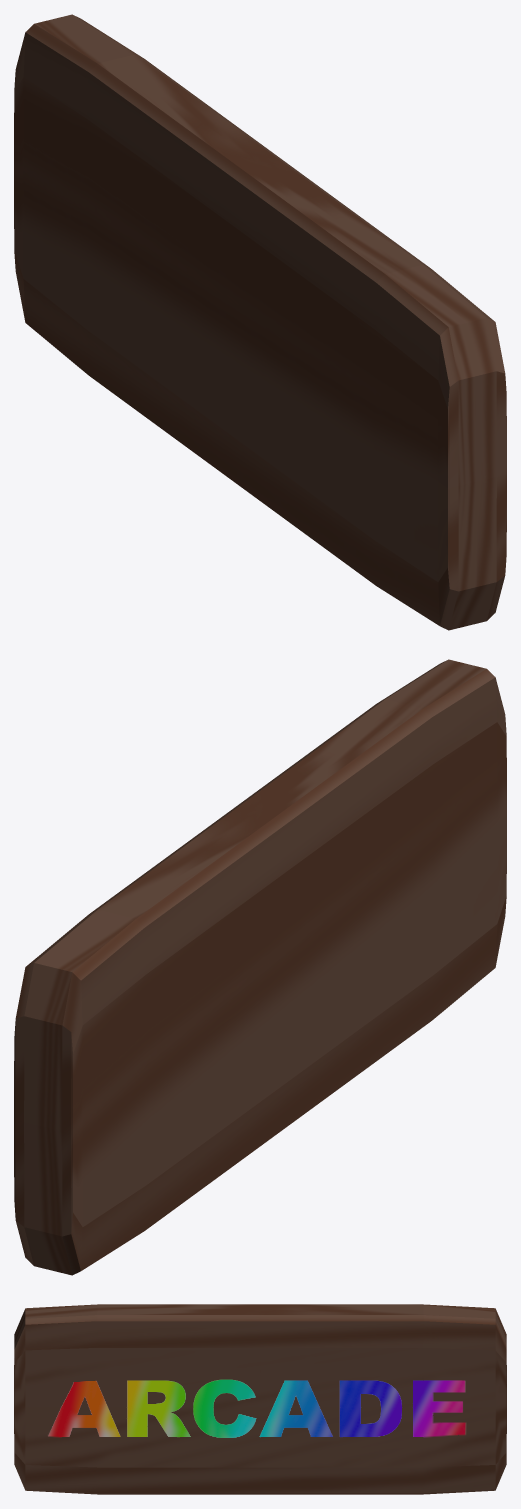
The model's file is ArcadeSign.fbx.
The picture shows the model from 3 angles, top to bottom: view 1: azimuth 30°, elevation 25°; view 2: azimuth 150°, elevation 25°; view 3: azimuth 270°, elevation 25°; orthographic projection. The views are drawn at different scales.
Visible parts, largest first — view 1: Cube; view 2: Cube; view 3: Cube.
Part boxes in pixels (x1=…): Cube: x1=14, y1=14, x2=506, y2=630; Cube: x1=14, y1=659, x2=506, y2=1275; Cube: x1=14, y1=1304, x2=506, y2=1494.
Bounding box in the file's own units: 39.39 × 200 × 498.
Materials: 1 (1 with a texture image).
